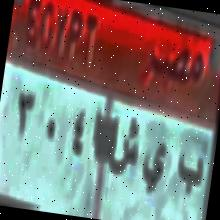0: (42, 114, 59, 152)
3: (11, 80, 41, 147)
4: (66, 107, 92, 168)
baa: (172, 146, 207, 202)
sheen: (104, 101, 147, 187)
yaa: (137, 133, 171, 203)
